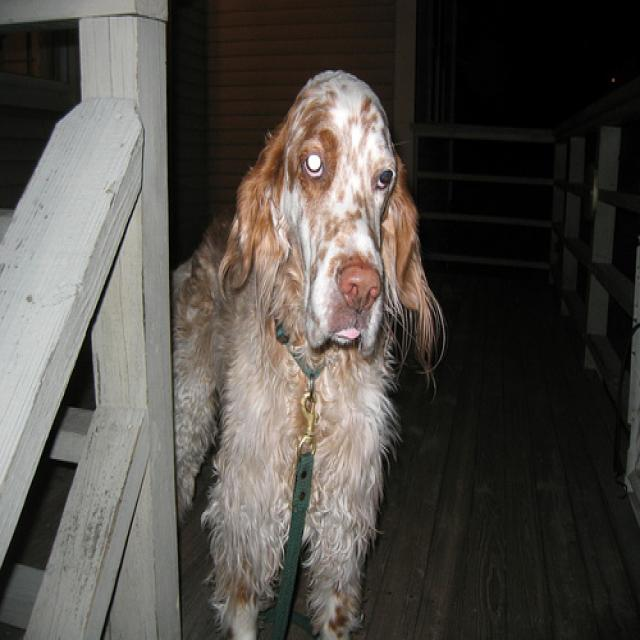dog: (216, 69, 420, 354)
